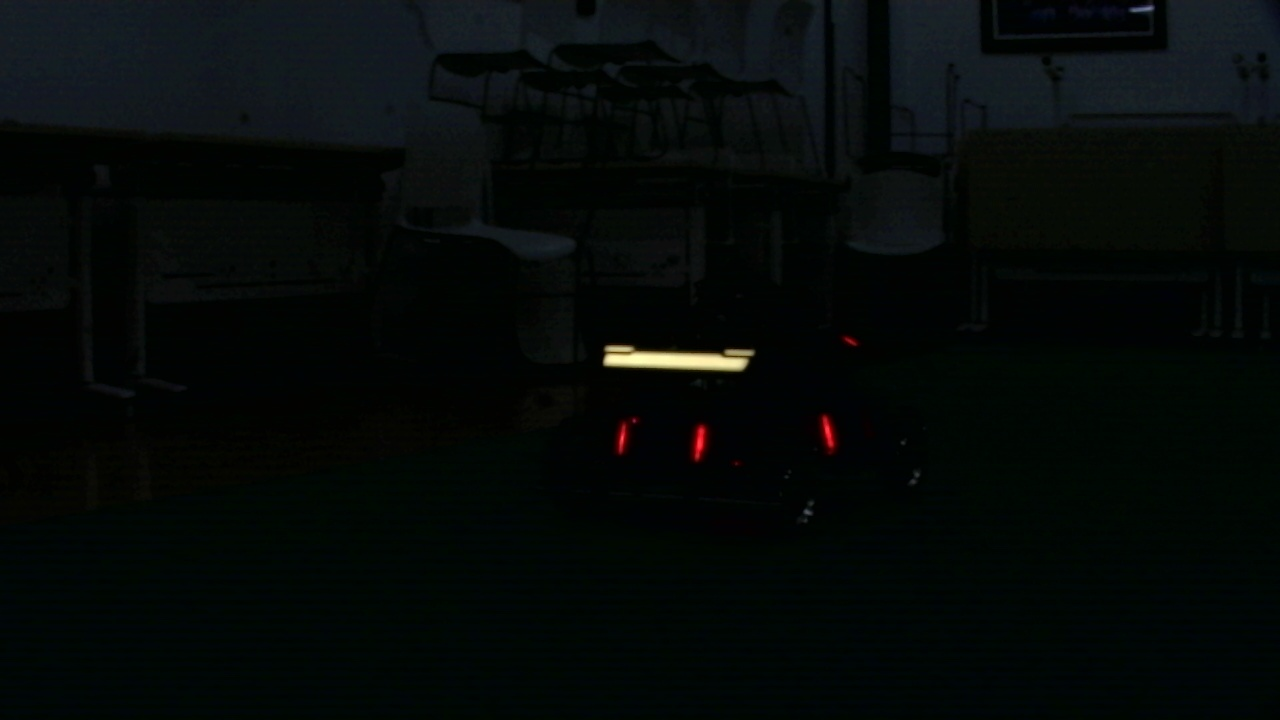lamp: (689, 420, 711, 464), (820, 408, 839, 449), (614, 416, 629, 458)
pair1: (615, 419, 710, 460)
